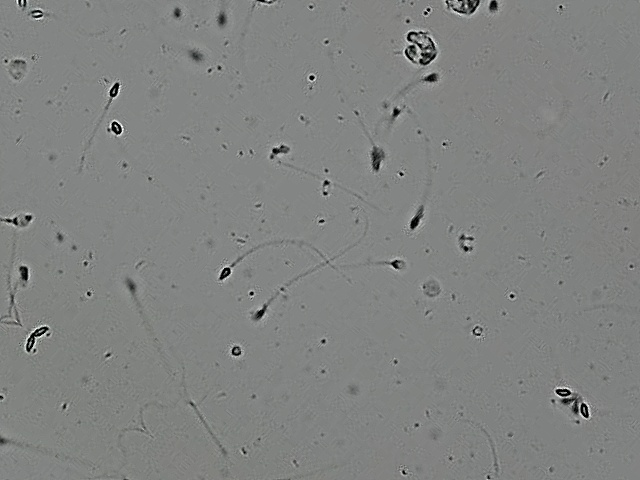sperm: (184, 126, 314, 268), (203, 70, 327, 184), (157, 151, 271, 267), (324, 85, 418, 183), (58, 236, 144, 316), (294, 190, 371, 264), (34, 42, 100, 114), (307, 86, 367, 144), (364, 31, 416, 86), (188, 0, 252, 28), (0, 136, 18, 228), (202, 446, 264, 468), (0, 231, 22, 289), (84, 102, 118, 134), (362, 86, 392, 116), (162, 23, 192, 51), (539, 364, 567, 391), (18, 308, 40, 330), (190, 0, 222, 14), (548, 379, 568, 399), (12, 0, 40, 14), (160, 0, 177, 12), (126, 0, 170, 0)
